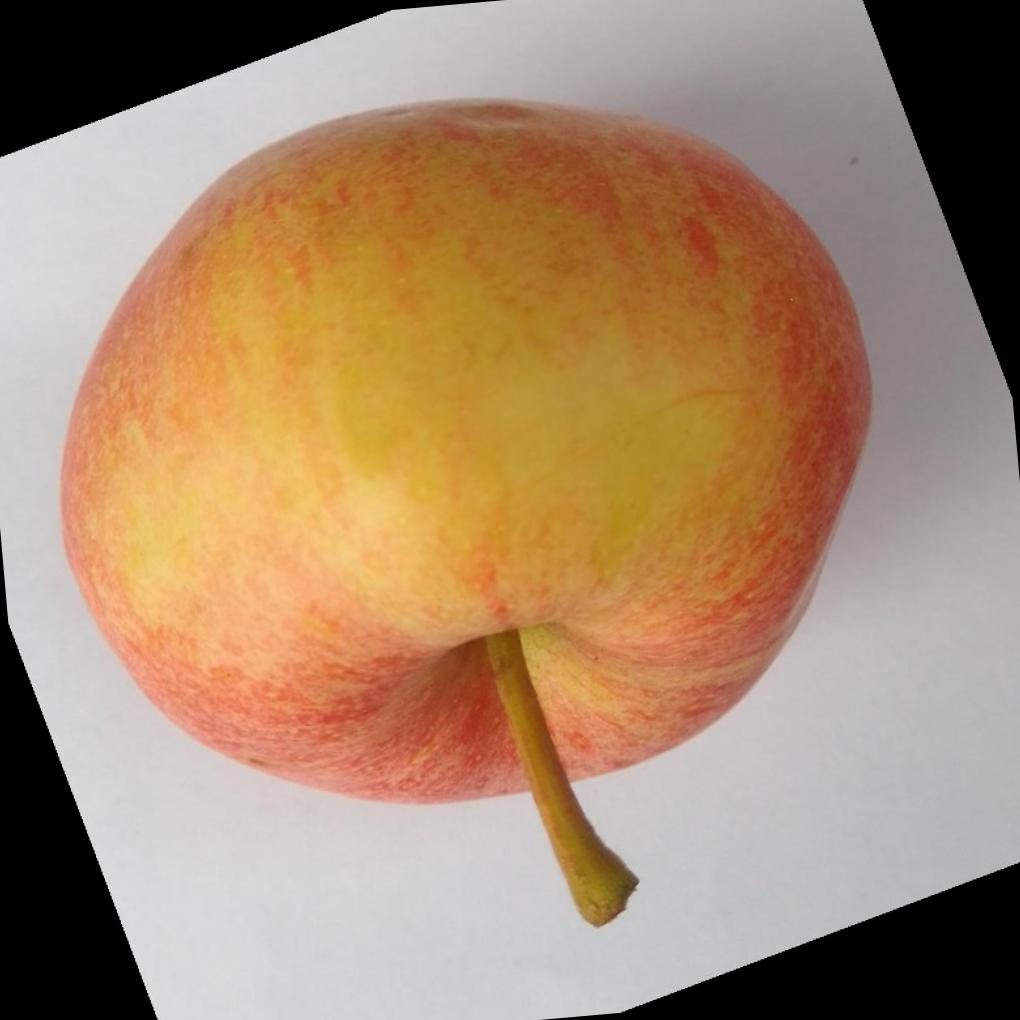FreshGuava: (58, 95, 876, 926)
